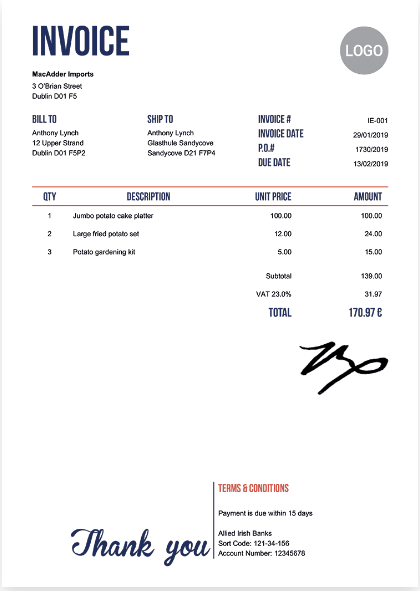Table: (13, 169, 405, 320)
